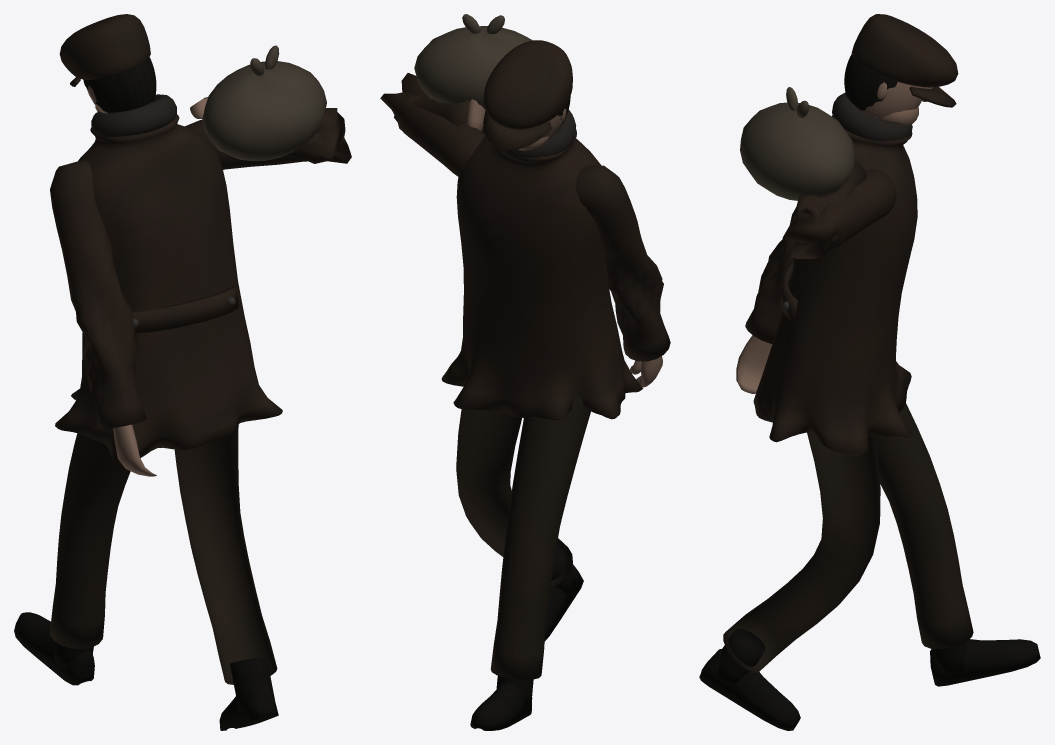
The model's file is walker-man-bundle.glb.
3 views of the same model, side by side, from view 1: azimuth 30°, elevation 25°; view 2: azimuth 150°, elevation 25°; view 3: azimuth 270°, elevation 25° (orthographic). The views are drawn at different scales.
Visible parts, largest first — view 1: walker-man-bundle-body; view 2: walker-man-bundle-body; view 3: walker-man-bundle-body.
Boxes of the visible parts, x1=… form: walker-man-bundle-body: x1=14, y1=14, x2=351, y2=730; walker-man-bundle-body: x1=380, y1=14, x2=670, y2=730; walker-man-bundle-body: x1=699, y1=14, x2=1040, y2=730.
Size of the model in its own units: 0.7203 by 1.71 by 0.7805.
9 materials, 7 textured.
